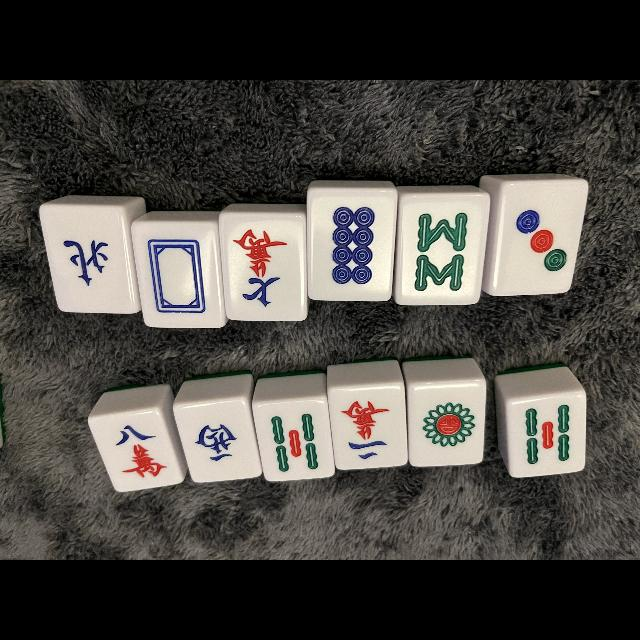b5: (510, 394, 582, 476), (260, 400, 328, 480)
b8: (402, 198, 478, 302)
c2: (331, 387, 403, 467)
c7: (222, 214, 306, 320)
c8: (104, 414, 172, 488)
d1: (411, 385, 484, 465)
d3: (500, 184, 572, 292)
d8: (310, 190, 390, 300)
dw: (140, 223, 218, 327)
wn: (46, 205, 130, 313)
ww: (183, 402, 255, 481)
